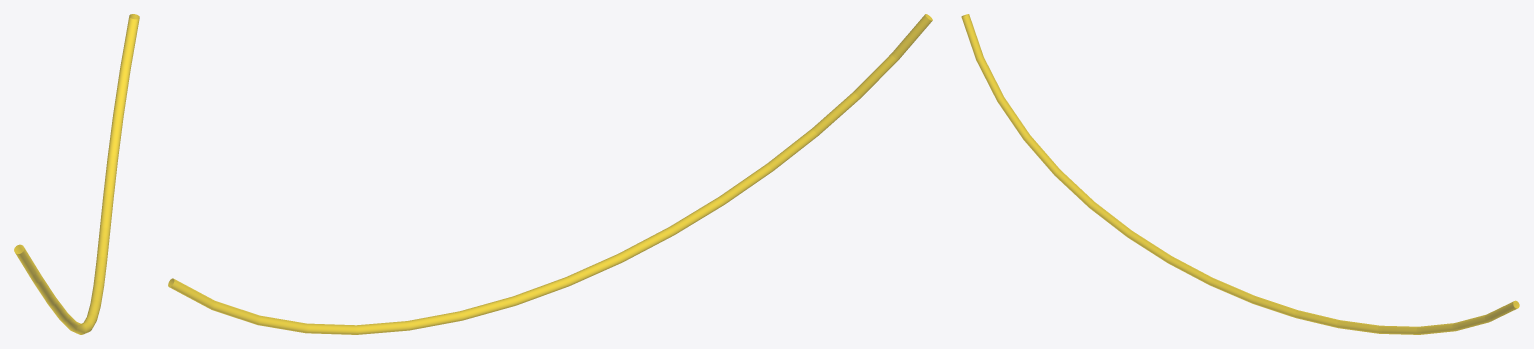
Rendered from Event_419990632_track_8.fbx.
The picture shows the model from 3 angles, left to right: view 1: azimuth 30°, elevation 25°; view 2: azimuth 150°, elevation 25°; view 3: azimuth 270°, elevation 25°; orthographic projection. The views are drawn at different scales.
Visible parts, largest first — view 1: Model; view 2: Model; view 3: Model.
Boxes of the visible parts, x1=… form: Model: x1=14, y1=14, x2=139, y2=334; Model: x1=168, y1=14, x2=932, y2=334; Model: x1=961, y1=14, x2=1519, y2=334.
Bounding box in the file's own units: 2.06 × 1.03 × 2.69.
